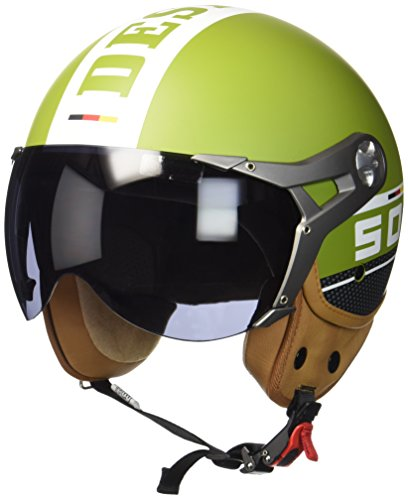with_helmet: (6, 4, 408, 395)
